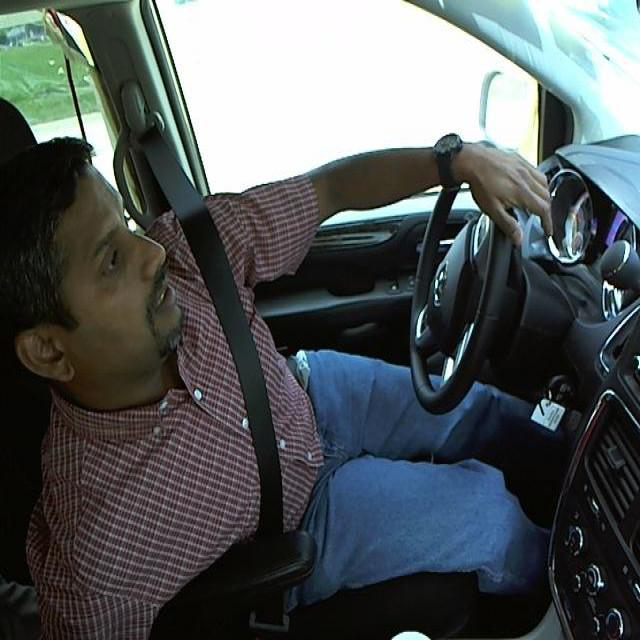seatbelt: (163, 190, 307, 530)
